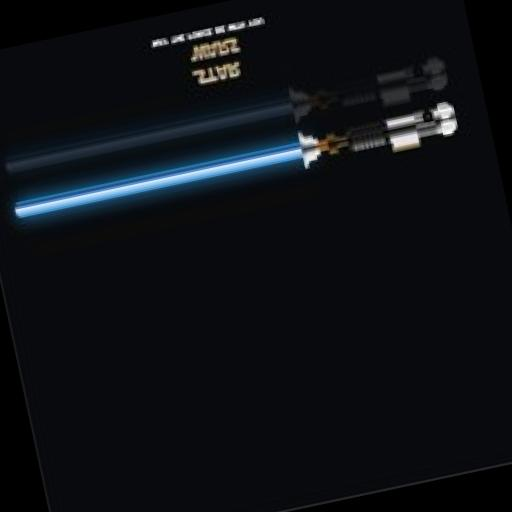lightsaber: (8, 88, 464, 234)
